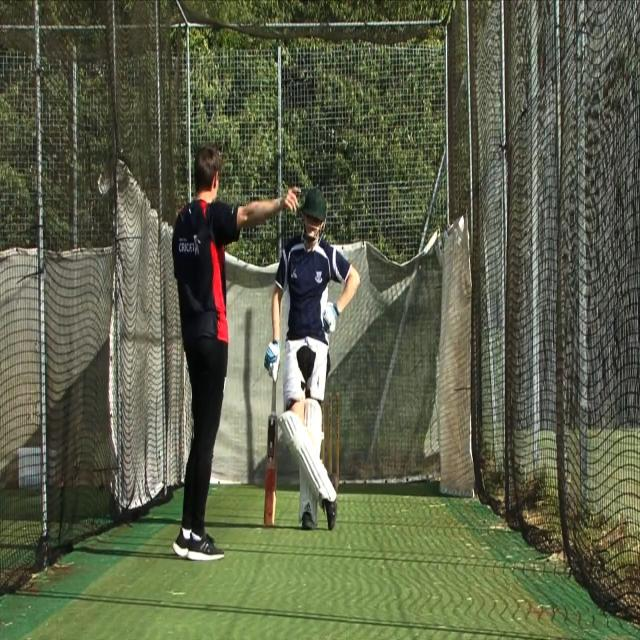batsman: (262, 185, 362, 532)
